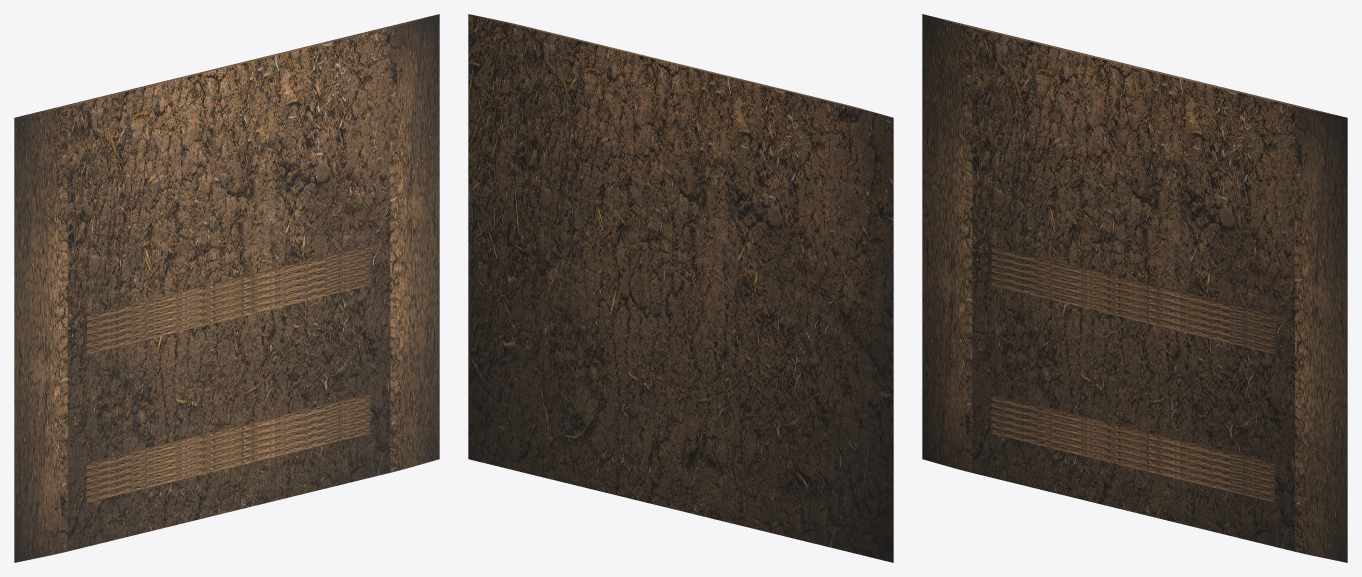
Rendered from ground_3.dae.
3 renders of one model, left to right at view 1: azimuth 30°, elevation 25°; view 2: azimuth 150°, elevation 25°; view 3: azimuth 330°, elevation 25°, orthographic.
Visible parts, largest first — view 1: Component2; view 2: Component2; view 3: Component2.
Boxes of the visible parts, x1,y1,x2,y2 form: Component2: (14,14,439,562); Component2: (468,14,893,562); Component2: (922,14,1347,562).
Size of the model in its own units: 30 by 0.2 by 30.
